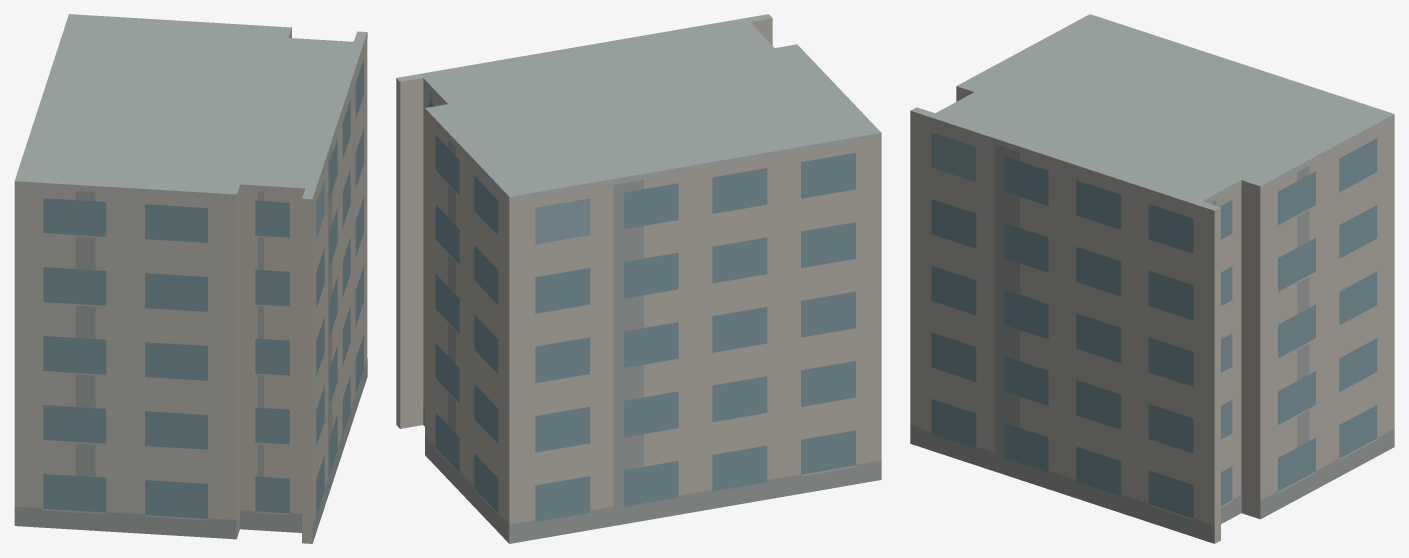
File: survey-upis-32950000.glb
3 views of the same model, side by side, from view 1: azimuth 30°, elevation 25°; view 2: azimuth 150°, elevation 25°; view 3: azimuth 270°, elevation 25° (orthographic). The views are drawn at different scales.
Parts seen in each view (by area): view 1: survey-upis-32950000.tmp; view 2: survey-upis-32950000.tmp; view 3: survey-upis-32950000.tmp.
Part boxes in pixels (box(x1,y1,x2,y2)): survey-upis-32950000.tmp: box(14, 14, 367, 543); survey-upis-32950000.tmp: box(396, 14, 881, 543); survey-upis-32950000.tmp: box(910, 14, 1394, 543).
Bounding box in the file's own units: 17.69 × 13.95 × 18.39.
